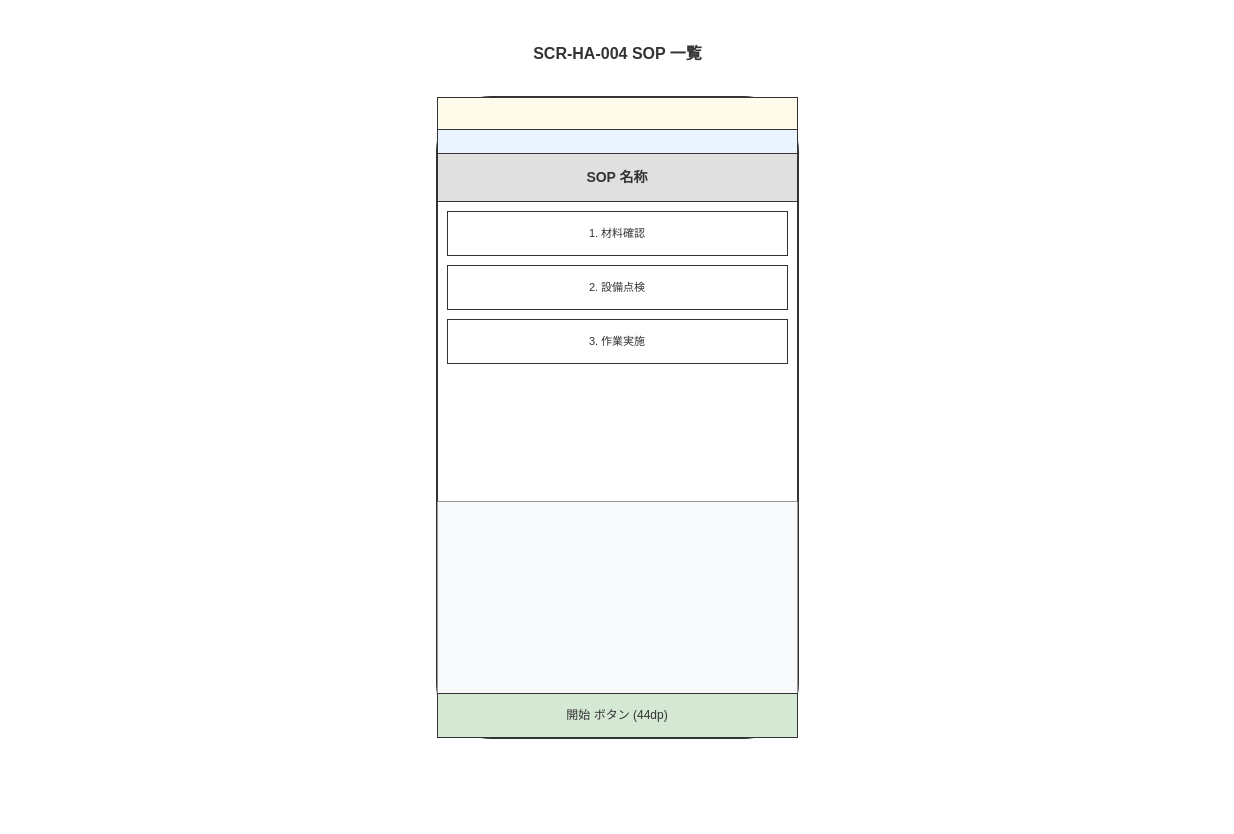
This 1234x834 diagram has some shape labels left out. The shapes that lost their labels are listed below. From the top down, each one's box as (x1, y1, x2, y2) in pixels, then its label:
(436, 96, 798, 130): OfflineBanner
(436, 128, 798, 154): ProgressBar: SOP {N}
(436, 200, 798, 502): Step 一覧 (ScrollView)
